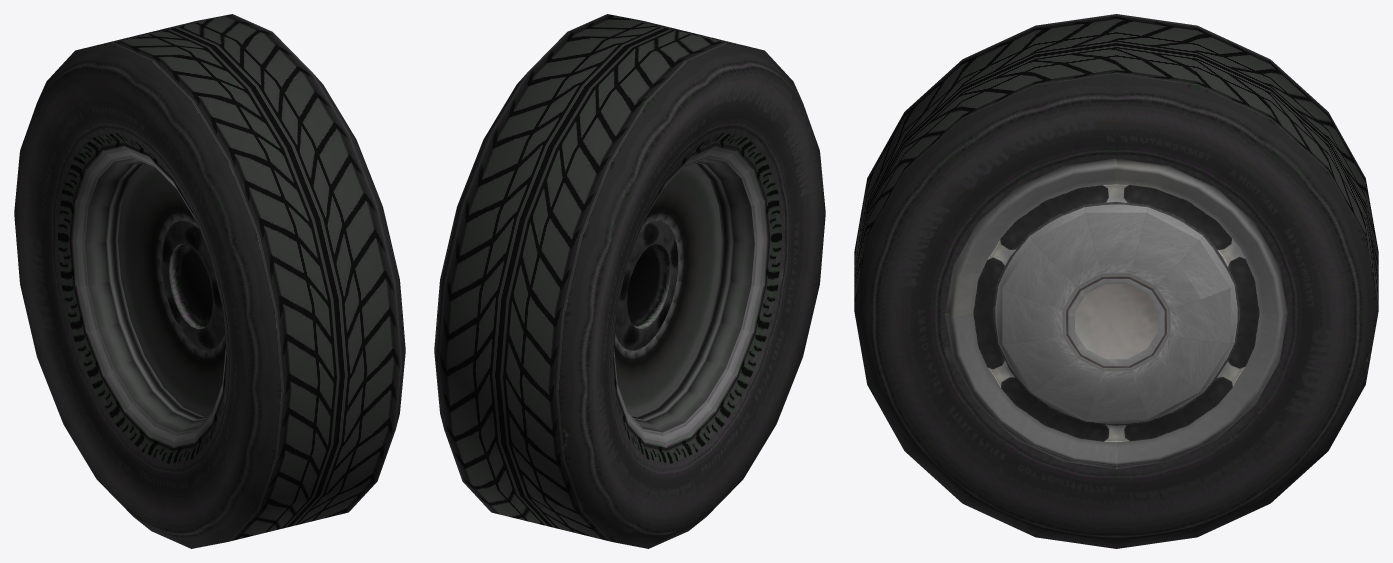
Rendered from Wheels_R15_2_R.FBX.
3 renders of one model, left to right at view 1: azimuth 30°, elevation 25°; view 2: azimuth 150°, elevation 25°; view 3: azimuth 270°, elevation 25°, orthographic.
Parts seen in each view (by area): view 1: R15_2_RIGHT; view 2: R15_2_RIGHT; view 3: R15_2_RIGHT.
Part boxes in pixels (left/top/right/bottom): R15_2_RIGHT: left=14, top=14, right=405, bottom=548; R15_2_RIGHT: left=434, top=14, right=825, bottom=548; R15_2_RIGHT: left=854, top=14, right=1378, bottom=548.
Size of the model in its own units: 11.9 by 33.07 by 33.07.
